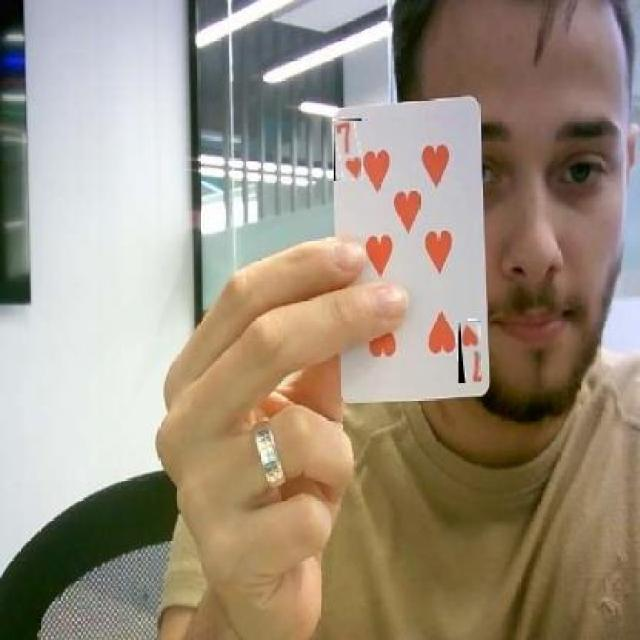7H: (334, 118, 361, 180), (458, 320, 480, 383)
